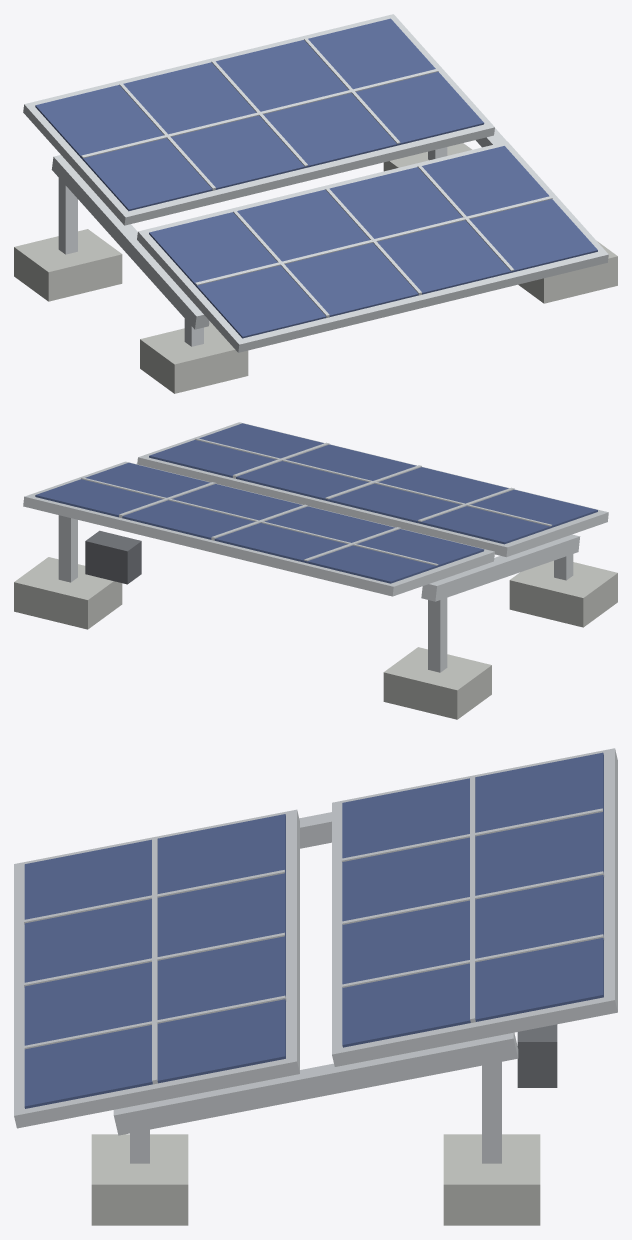
File: wind-and-solar-energy-farm-roof-mount-panel-pair-e62b7fc8__34059.glb
3 views of the same model, one above another, from view 1: azimuth 30°, elevation 25°; view 2: azimuth 150°, elevation 25°; view 3: azimuth 270°, elevation 25° (orthographic). The views are drawn at different scales.
Parts seen in each view (by area): view 1: roof-mount-panel-pair; view 2: roof-mount-panel-pair; view 3: roof-mount-panel-pair.
Part boxes in pixels (<box>): roof-mount-panel-pair: <box>14,14,617,393</box>; roof-mount-panel-pair: <box>14,422,617,719</box>; roof-mount-panel-pair: <box>14,748,617,1225</box>.
Size of the model in its own units: 2.52 by 0.7868 by 2.13.
